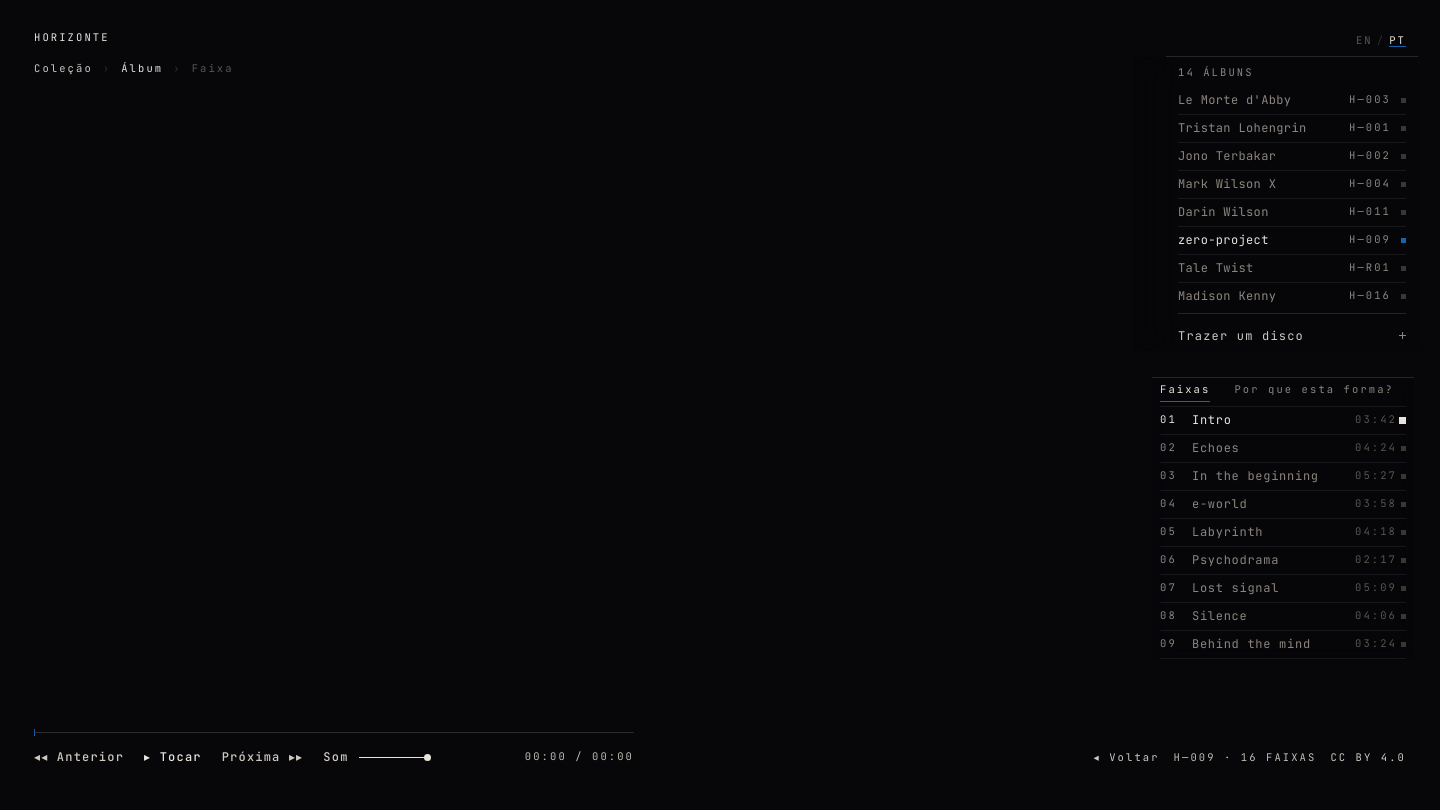
Scenario: the anatomy in Portuguese › asks, answers and offers the experiment in Portuguese
The image size is (1440, 810).
Step 1. Click the tab "Por que esta forma?" → point(1314, 390), box 1234,378 -> 1394,402
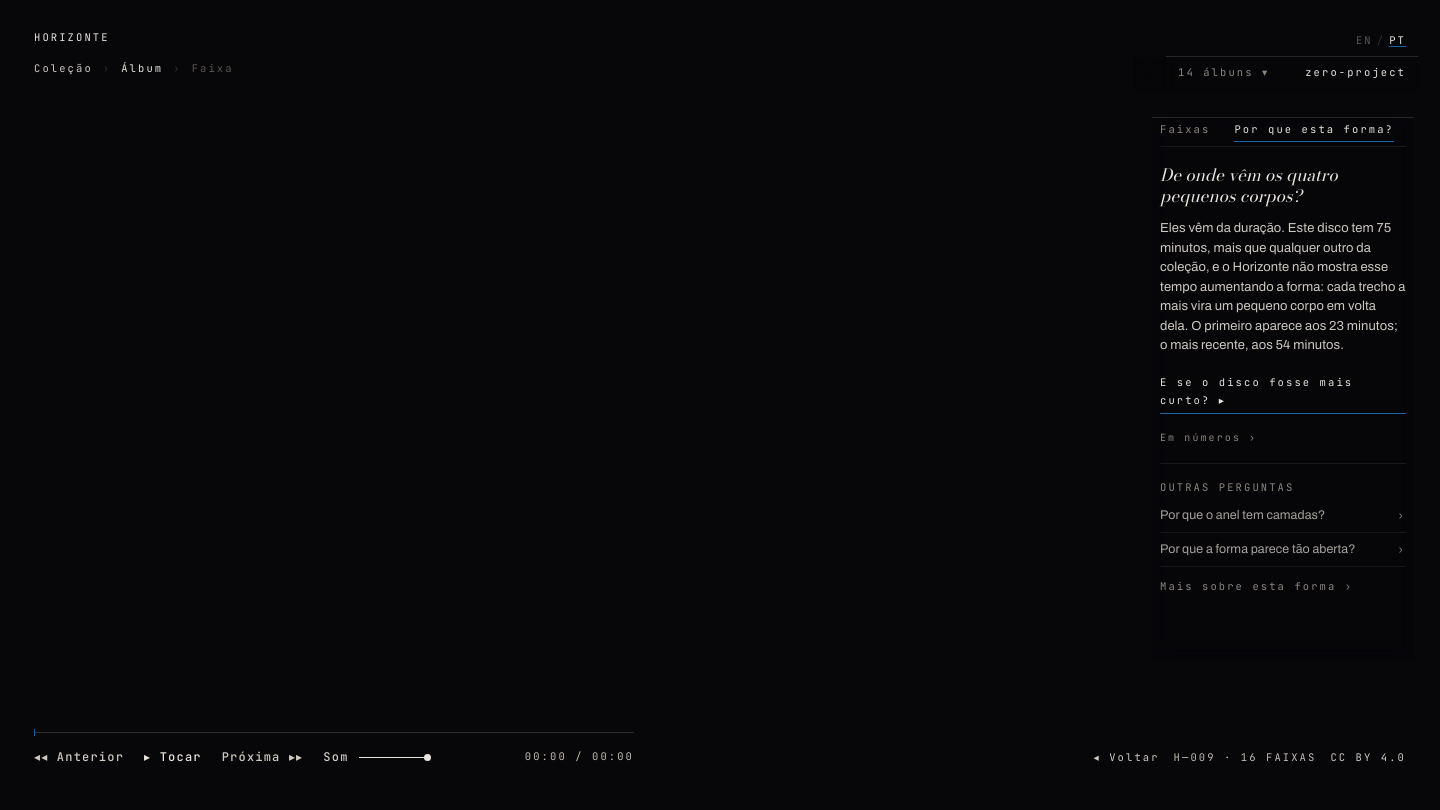
Expected: the heading "De onde vêm os quatro pequenos corpos?" is shown, 1160,162 -> 1338,209
Expected: the text "Eles vêm da duração. Este disco tem 75 minutos" is shown, 1160,221 -> 1405,352
Expected: the button "E se o disco fosse mais curto? ▸" is shown, 1160,374 -> 1406,414
Step 2. Click the button "Em números ›" → point(1209, 437), box 1160,430 -> 1257,444
(page scrolled)
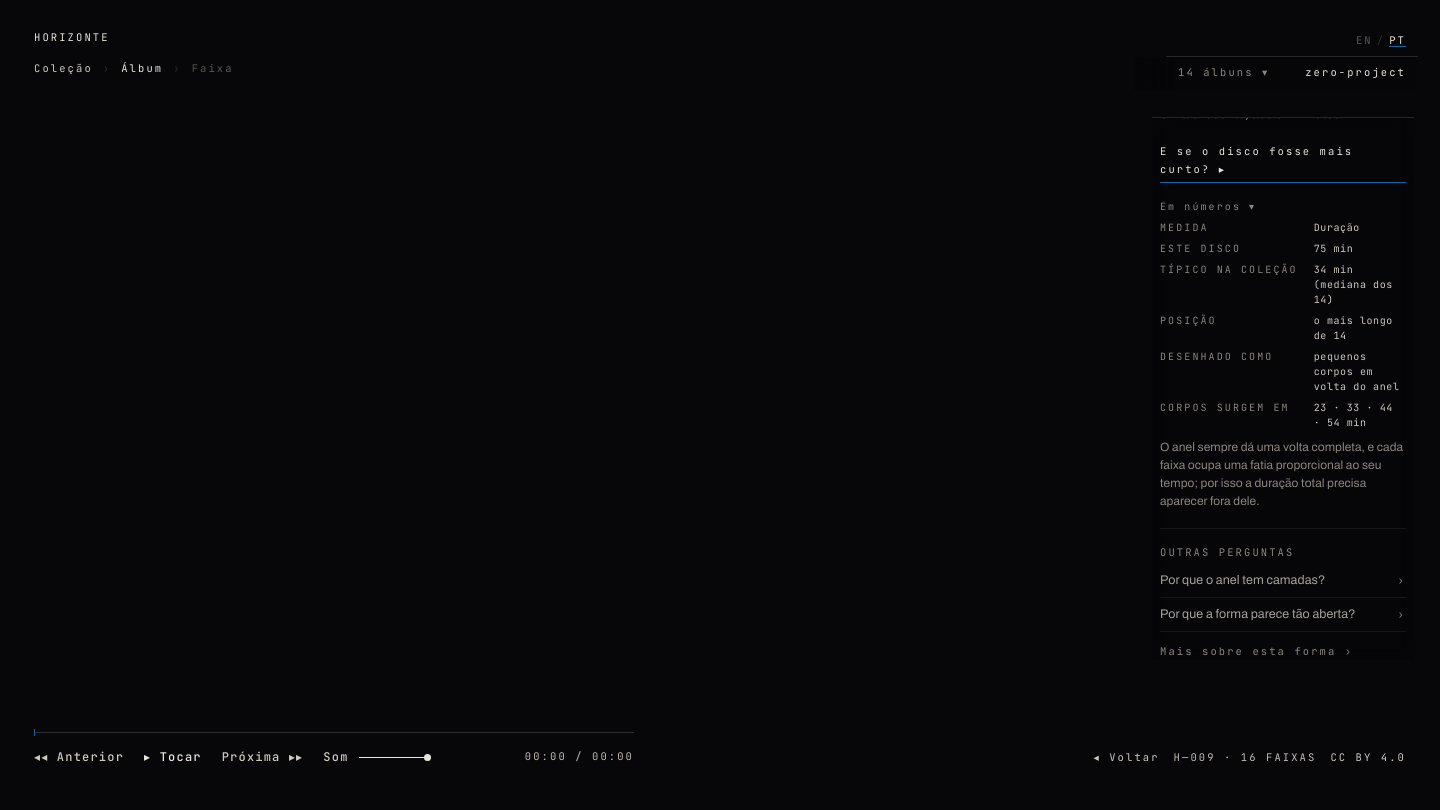
Expected: the text "34 min (mediana dos 14)" is shown, 1314,262 -> 1406,306
Expected: the text "o mais longo de 14" is shown, 1314,312 -> 1406,342
Expected: the text "Corpos surgem em" is shown, 1160,400 -> 1290,414
Step 3. Click the button "Mais sobre esta forma ›" → point(1257, 652), box 1160,644 -> 1353,660
(page scrolled)
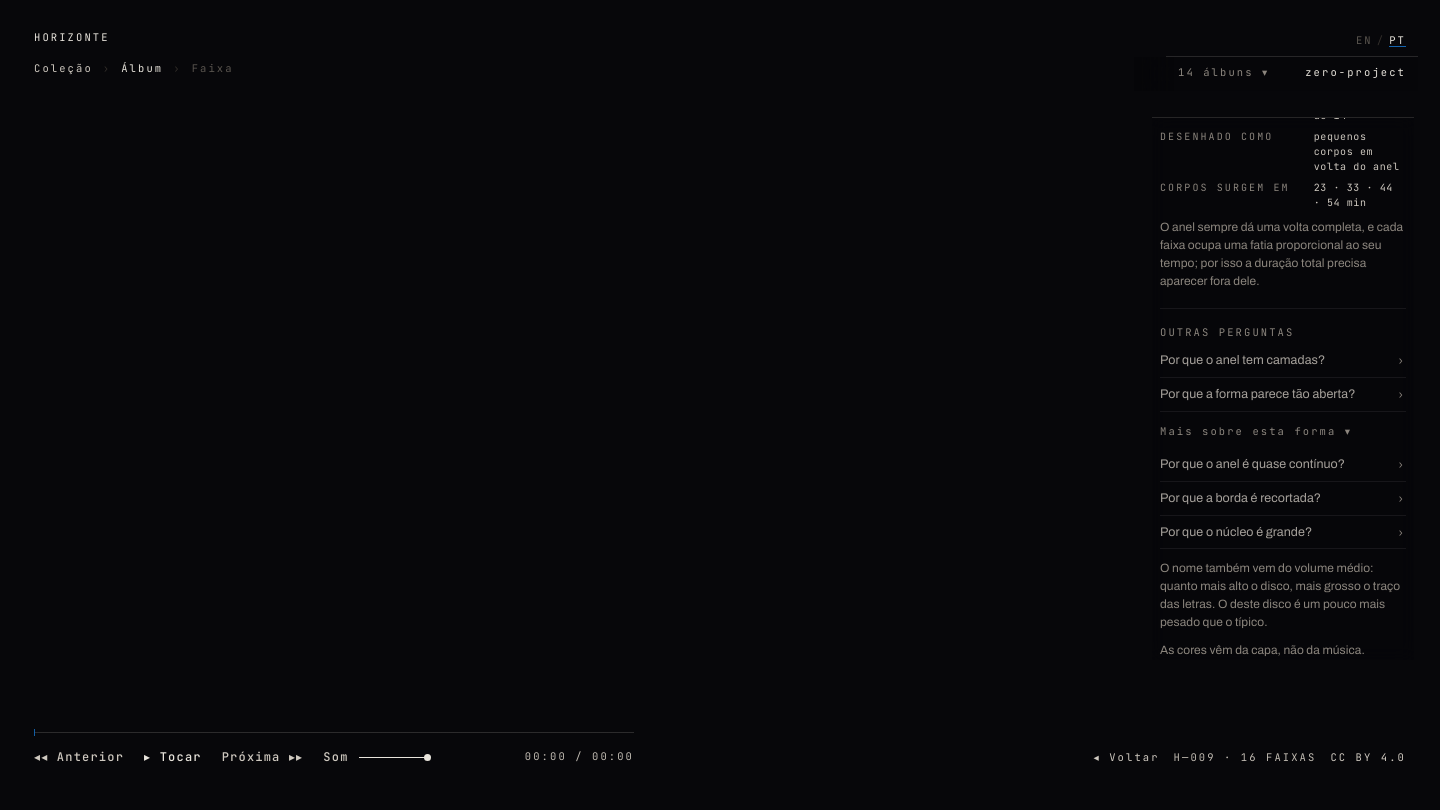
Expected: the text "As cores vêm da capa, não da música." is shown, 1160,643 -> 1365,657
